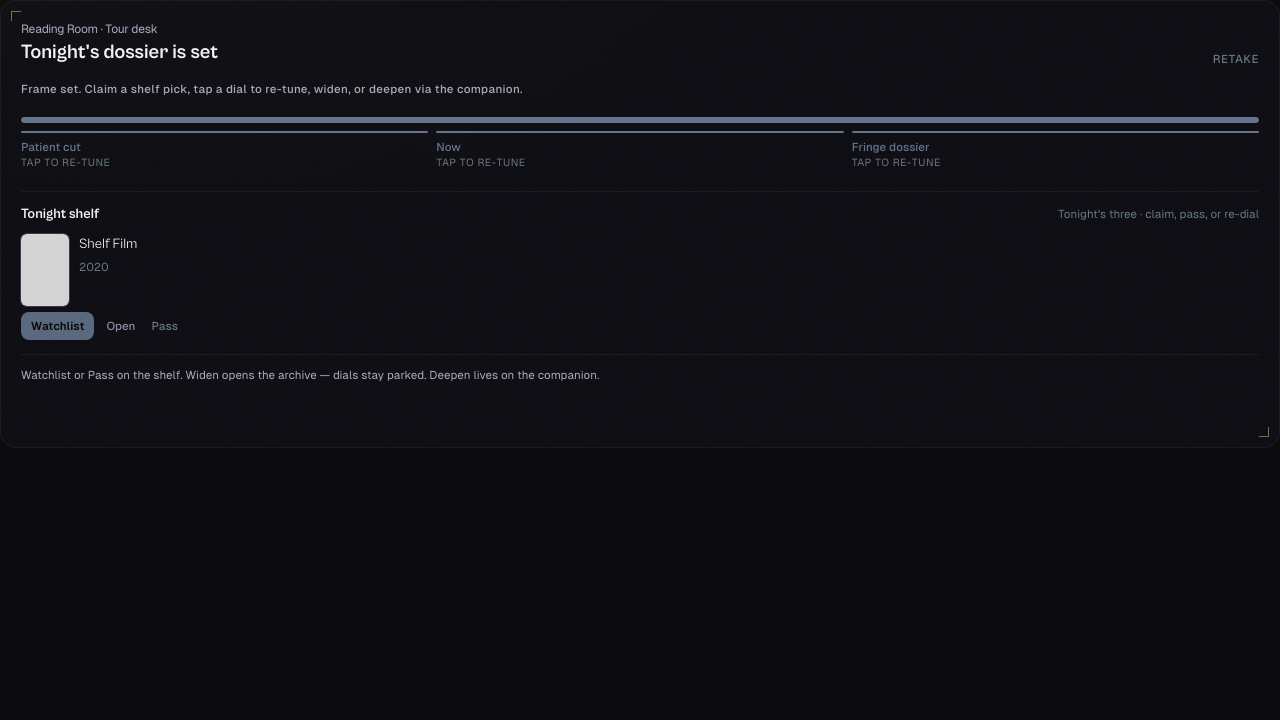
Scenario: GuidedTour › after Watchlist success shows tonight-bag with Library link
What coordinates should you click on to do the following:
click the button with aria-label "Add Shelf Film to watchlist"
I would click on:
 (58, 326)
Its box is x1=21 y1=312 x2=94 y2=340.
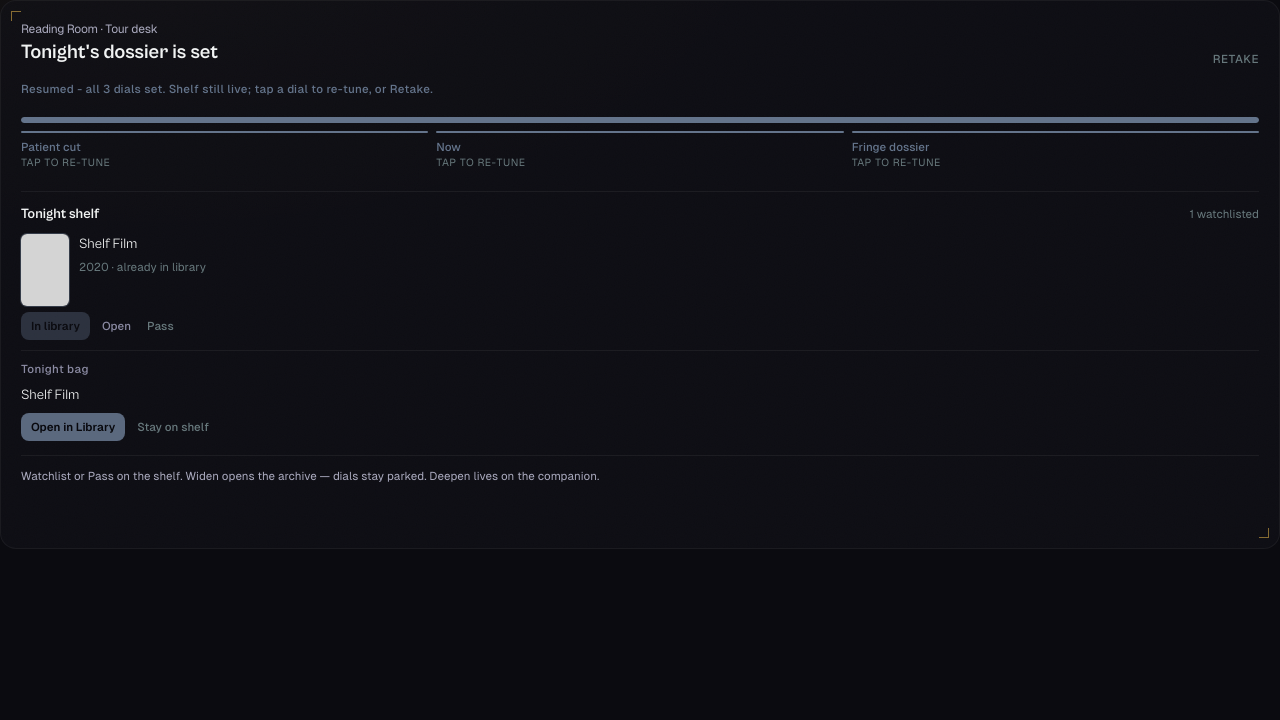
Expected: the element with test id "tonight-bag" shows "Shelf Film", x1=21 y1=387 x2=80 y2=403
Expected: the button "Stay on shelf" is shown, x1=133 y1=413 x2=213 y2=441
